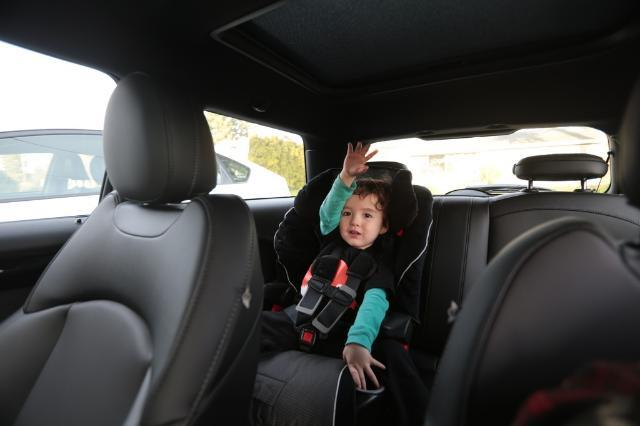Seatbelt: (298, 237, 372, 353)
